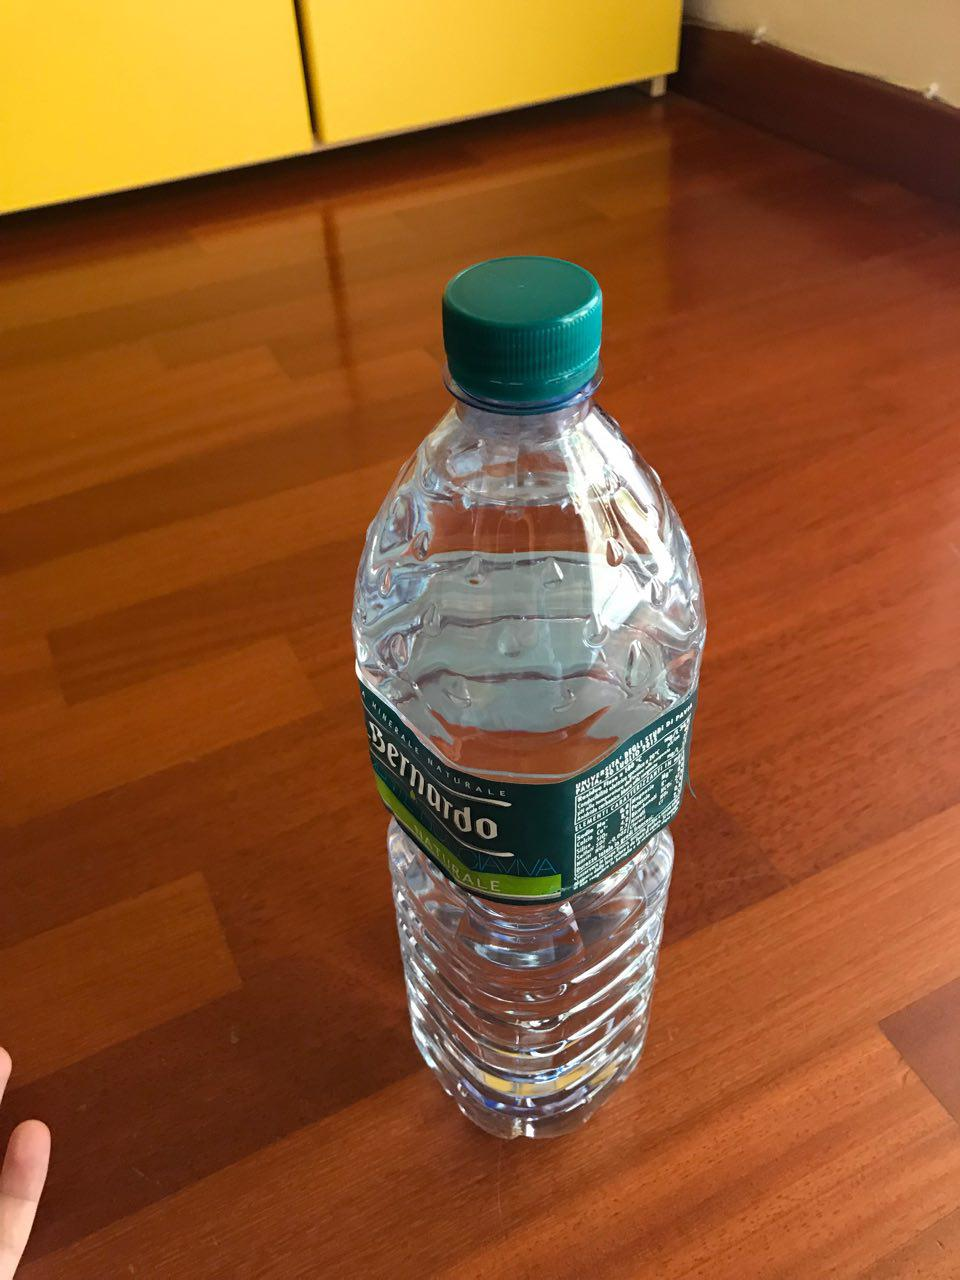san_bernardo: (348, 252, 711, 1144)
